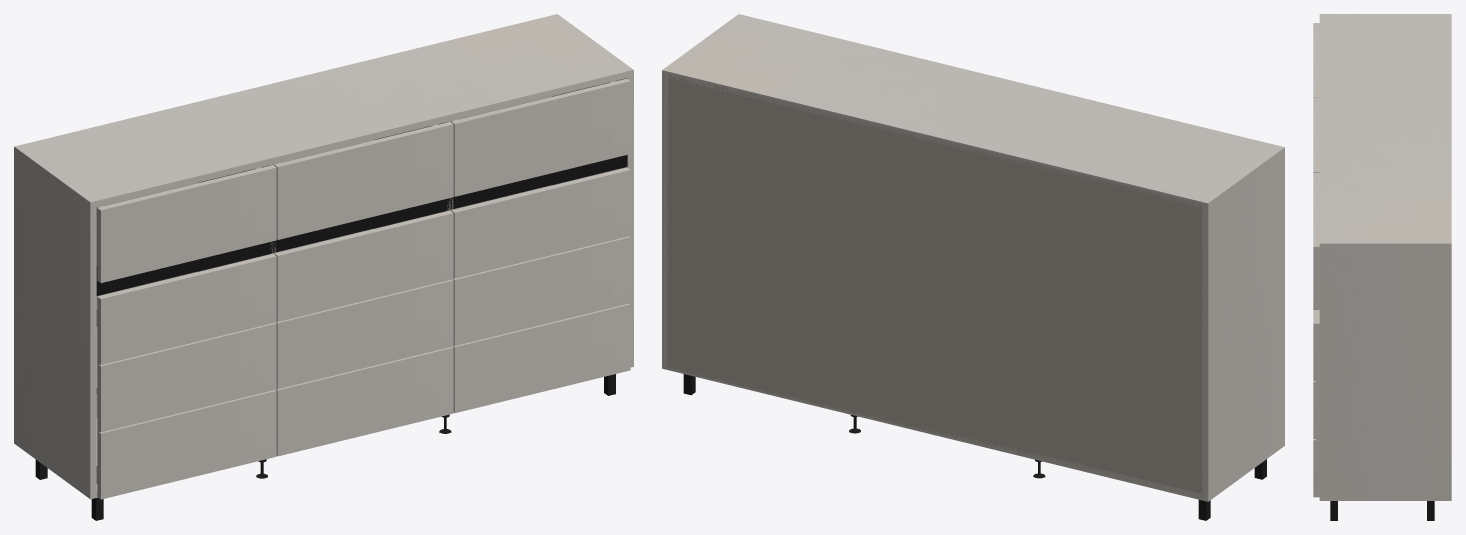
Rendered from marron_ar.glb.
The picture shows the model from 3 angles, left to right: view 1: azimuth 30°, elevation 25°; view 2: azimuth 150°, elevation 25°; view 3: azimuth 270°, elevation 25°; orthographic projection. The views are drawn at different scales.
Visible parts, largest first — view 1: korpus, vrata_1, vrata_3, vrata_2, fioka_1, fioka_3, fioka_2; view 2: korpus; view 3: korpus, vrata_3, fioka_3, fioka_2, fioka_1.
Part boxes in pixels (bbox=[...]): korpus: bbox=[14, 14, 633, 520]; vrata_1: bbox=[96, 253, 276, 499]; vrata_3: bbox=[451, 167, 630, 412]; vrata_2: bbox=[274, 210, 453, 456]; fioka_1: bbox=[96, 165, 276, 282]; fioka_3: bbox=[451, 78, 630, 196]; fioka_2: bbox=[274, 122, 453, 239]; korpus: bbox=[662, 14, 1284, 520]; korpus: bbox=[1319, 14, 1451, 520]; vrata_3: bbox=[1313, 310, 1319, 497]; fioka_3: bbox=[1313, 172, 1319, 309]; fioka_2: bbox=[1313, 97, 1319, 172]; fioka_1: bbox=[1313, 23, 1319, 97].
Bounding box in the file's own units: 1.57 × 0.9 × 0.4.
Materials: 5 (1 with a texture image).
